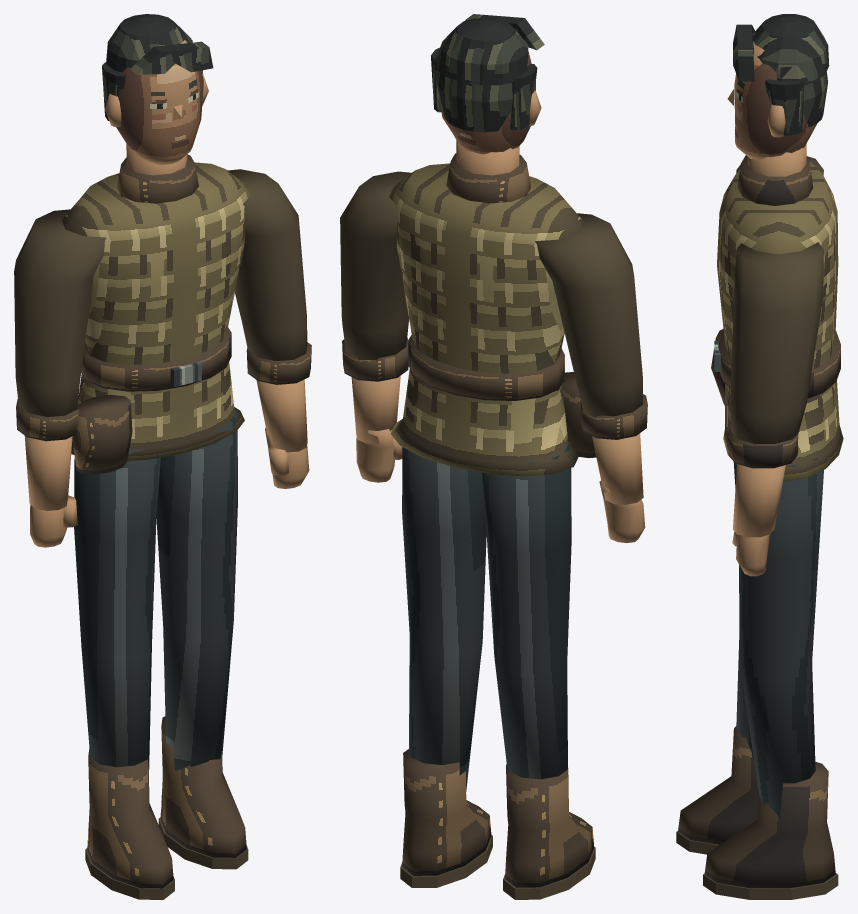
Rendered from tavin-crafted.glb.
The picture shows the model from 3 angles, left to right: view 1: azimuth 30°, elevation 25°; view 2: azimuth 150°, elevation 25°; view 3: azimuth 270°, elevation 25°; orthographic projection. The views are drawn at different scales.
Visible parts, largest first — view 1: tavin-crafted runtime mesh; view 2: tavin-crafted runtime mesh; view 3: tavin-crafted runtime mesh.
Boxes of the visible parts, bbox=[...] form: tavin-crafted runtime mesh: bbox=[14, 14, 311, 899]; tavin-crafted runtime mesh: bbox=[340, 14, 647, 899]; tavin-crafted runtime mesh: bbox=[676, 14, 843, 899].
Size of the model in its own units: 0.64 by 1.78 by 0.3201.
Materials: 1 (1 with a texture image).
